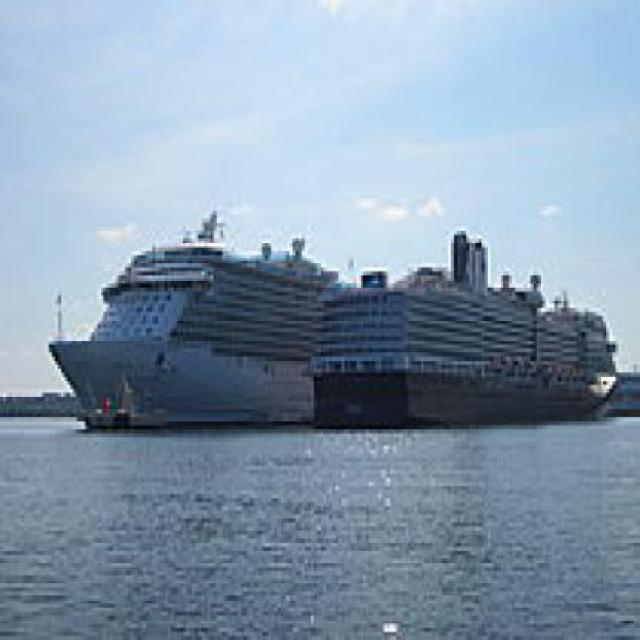cruise: (41, 203, 364, 434), (306, 223, 620, 439)
